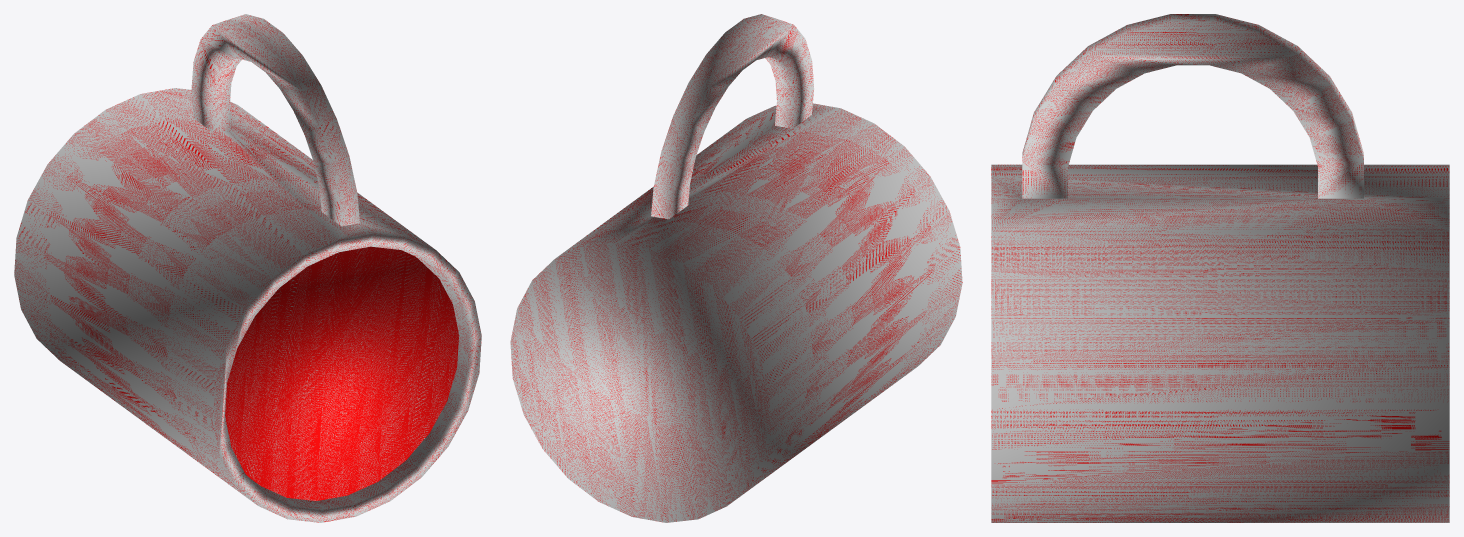
The model's file is model_align.obj.
3 renders of one model, left to right at view 1: azimuth 30°, elevation 25°; view 2: azimuth 150°, elevation 25°; view 3: azimuth 270°, elevation 25°, orthographic. The views are drawn at different scales.
Parts seen in each view (by area): view 1: mesh1_mesh1-geometry; view 2: mesh1_mesh1-geometry; view 3: mesh1_mesh1-geometry.
Part boxes in pixels (x1,y1,x2,y2): mesh1_mesh1-geometry: (14,14,481,522); mesh1_mesh1-geometry: (510,14,962,522); mesh1_mesh1-geometry: (991,14,1449,522).
Size of the model in its own units: 0.0776 by 0.1172 by 0.0989.
